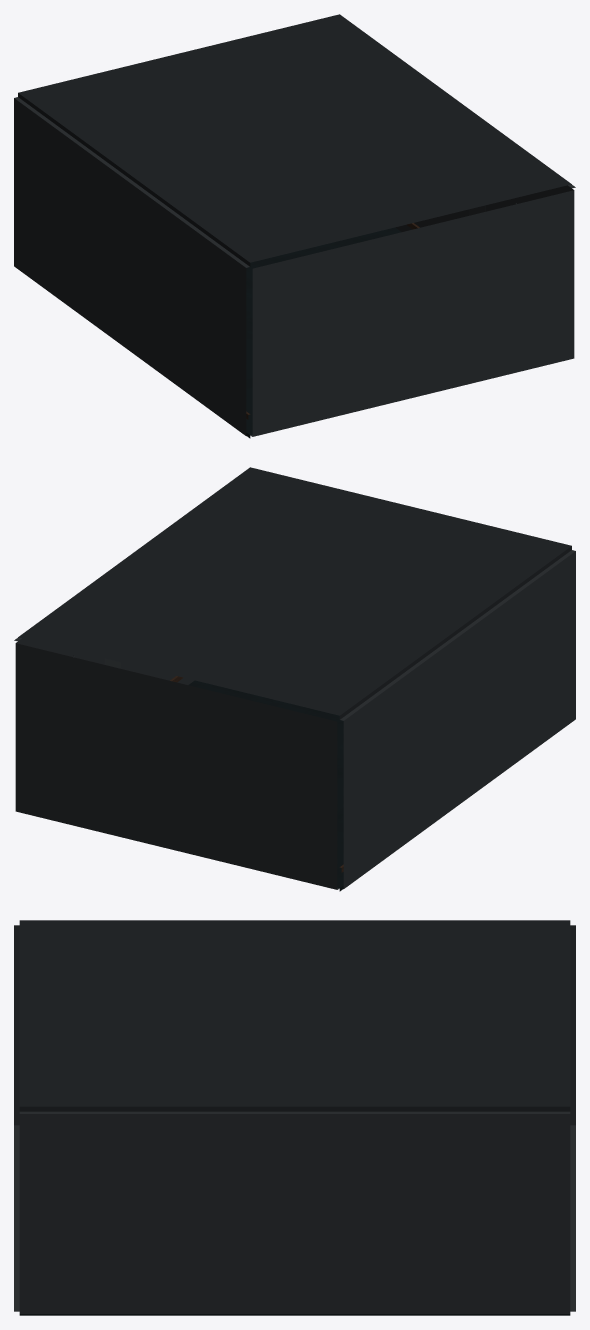
The model's file is focused_practice_hall_venue_v1.gltf.
3 renders of one model, top to bottom at view 1: azimuth 30°, elevation 25°; view 2: azimuth 150°, elevation 25°; view 3: azimuth 270°, elevation 25°, orthographic. The views are drawn at different scales.
Parts seen in each view (by area): view 1: NODE_venue_ceiling_LOD0, NODE_venue_wall_z_pos_LOD0, NODE_venue_wall_x_neg_LOD0, NODE_venue_floor_LOD0, NODE_venue_wall_x_pos_LOD0; view 2: NODE_venue_ceiling_LOD0, NODE_venue_wall_z_neg_LOD0, NODE_venue_wall_x_neg_LOD0, NODE_venue_floor_LOD0, NODE_venue_wall_x_pos_LOD0; view 3: NODE_venue_wall_x_pos_LOD0, NODE_venue_ceiling_LOD0, NODE_venue_wall_z_neg_LOD0, NODE_venue_wall_z_pos_LOD0, NODE_venue_floor_LOD0.
Boxes of the visible parts, bbox=[...] form: NODE_venue_ceiling_LOD0: bbox=[18, 14, 571, 266]; NODE_venue_wall_z_pos_LOD0: bbox=[250, 189, 574, 436]; NODE_venue_wall_x_neg_LOD0: bbox=[14, 97, 249, 435]; NODE_venue_floor_LOD0: bbox=[246, 227, 401, 438]; NODE_venue_wall_x_pos_LOD0: bbox=[395, 184, 575, 231]; NODE_venue_ceiling_LOD0: bbox=[18, 467, 571, 719]; NODE_venue_wall_z_neg_LOD0: bbox=[15, 642, 339, 889]; NODE_venue_wall_x_neg_LOD0: bbox=[340, 550, 575, 888]; NODE_venue_floor_LOD0: bbox=[188, 680, 343, 891]; NODE_venue_wall_x_pos_LOD0: bbox=[14, 637, 194, 684]; NODE_venue_wall_x_pos_LOD0: bbox=[19, 1111, 570, 1313]; NODE_venue_ceiling_LOD0: bbox=[19, 920, 570, 1111]; NODE_venue_wall_z_neg_LOD0: bbox=[570, 925, 575, 1311]; NODE_venue_wall_z_pos_LOD0: bbox=[14, 925, 19, 1311]; NODE_venue_floor_LOD0: bbox=[19, 1314, 570, 1315].
Size of the model in its own units: 8.2 by 4.18 by 10.2.
Materials: 6 (3 with a texture image).
